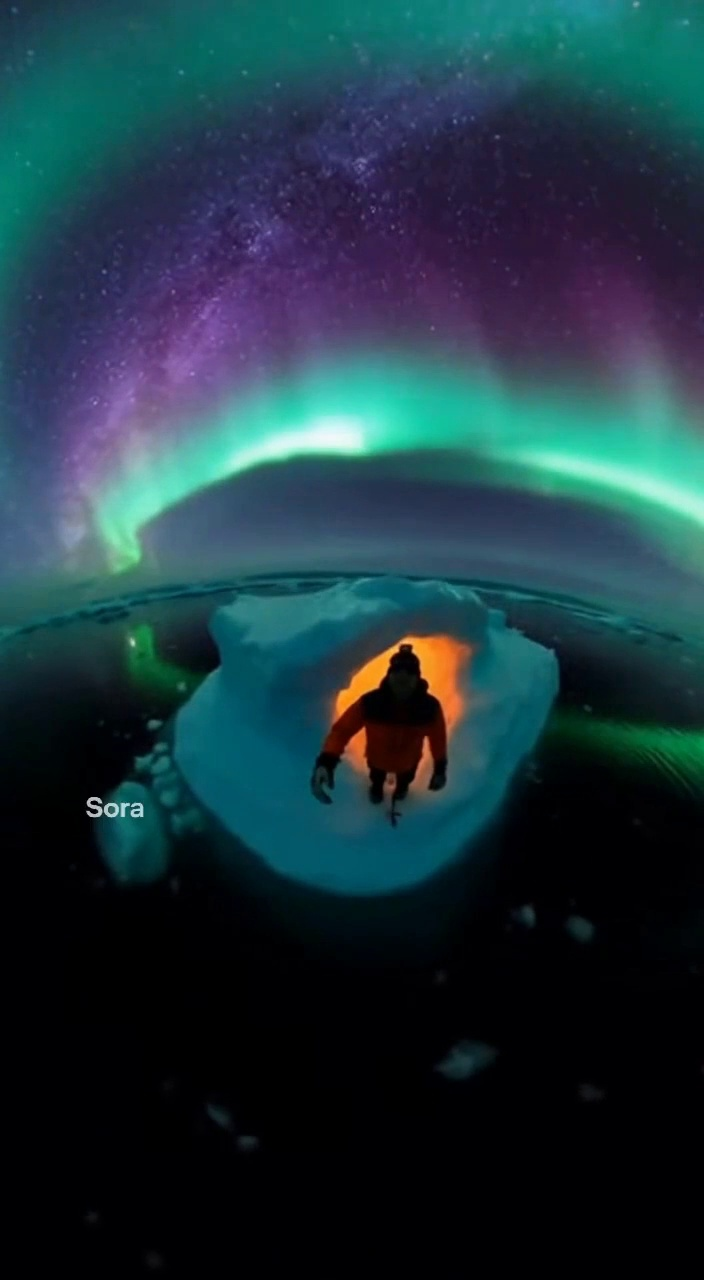watermark: (70, 791, 130, 828)
